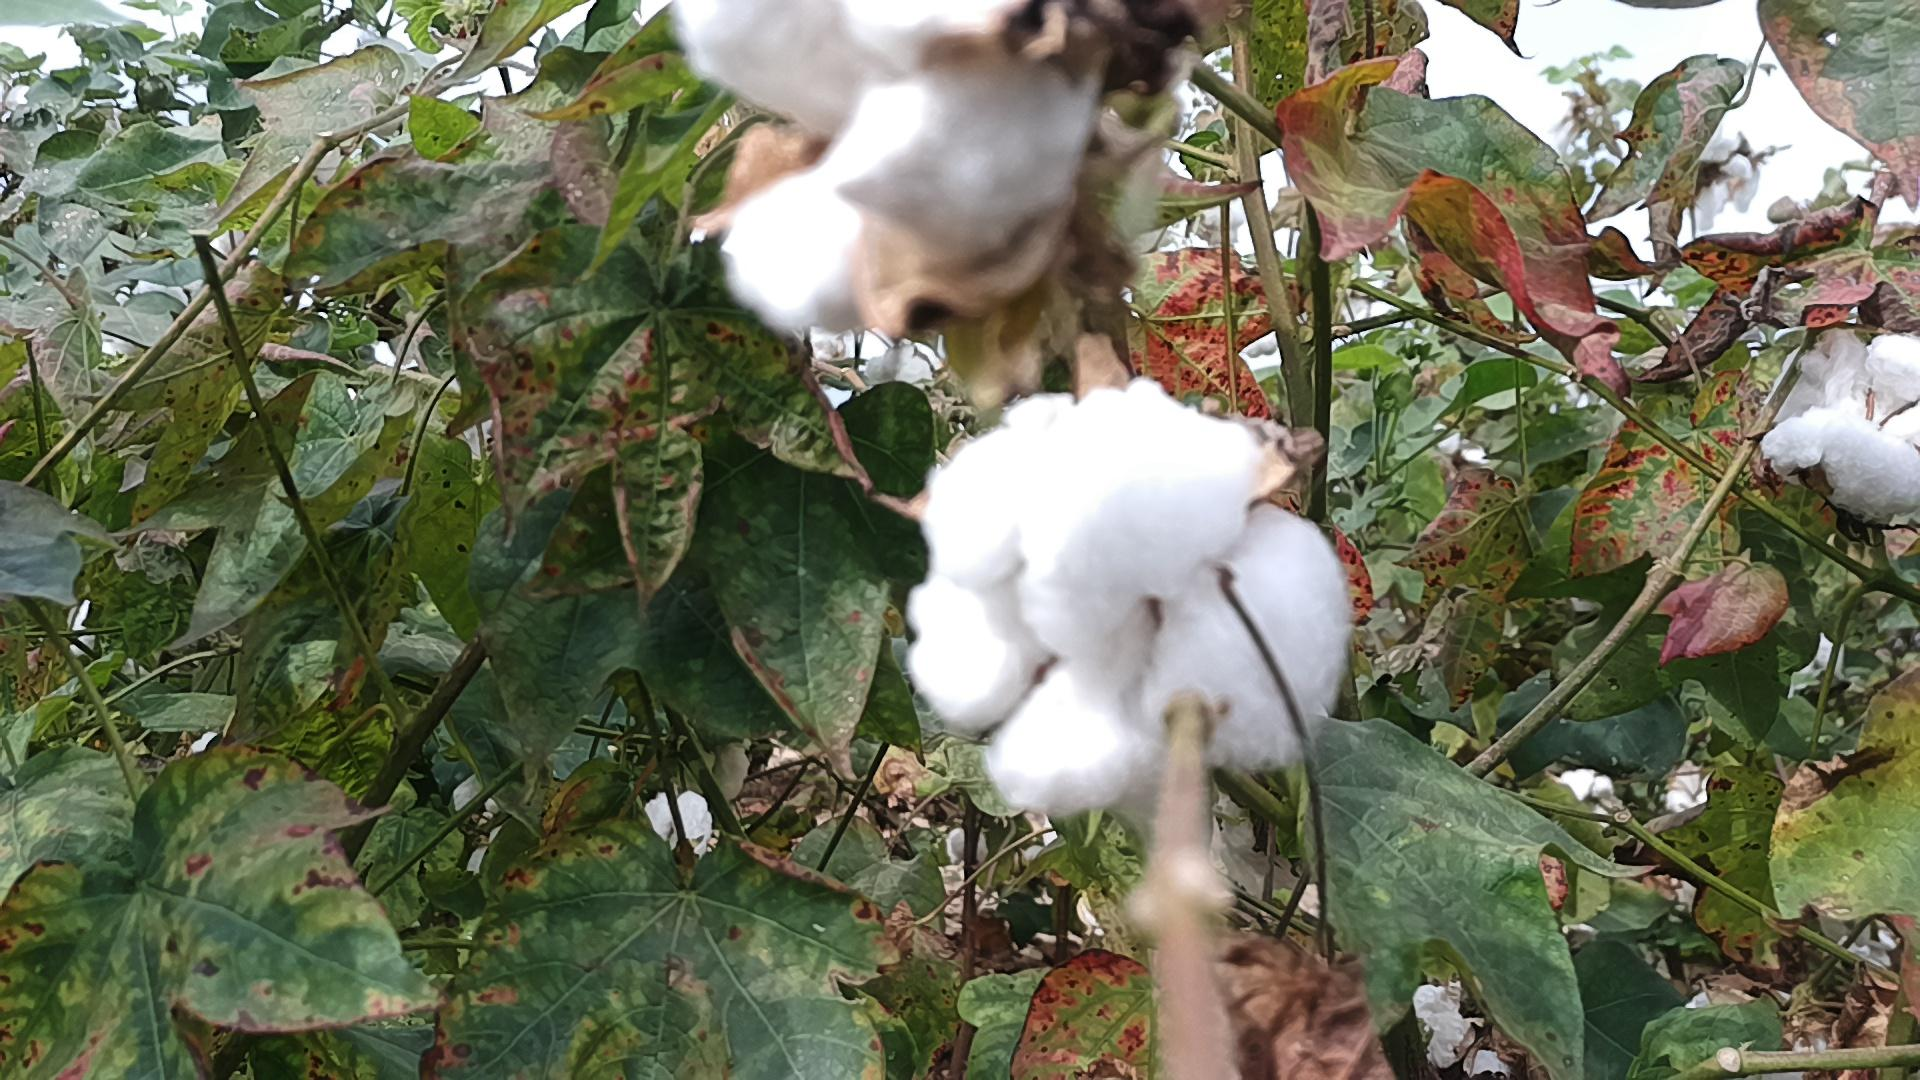cotton_ready: (911, 376, 1356, 811), (675, 0, 1101, 328), (1766, 326, 1920, 520), (1418, 985, 1507, 1080), (1693, 136, 1758, 231), (646, 793, 711, 853)
